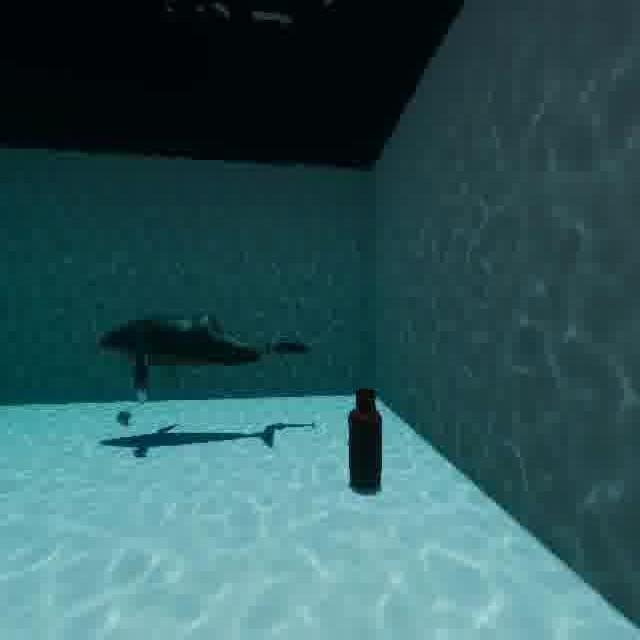Cylinder: (337, 346, 405, 519)
Whale: (91, 307, 269, 433), (264, 322, 315, 371)
